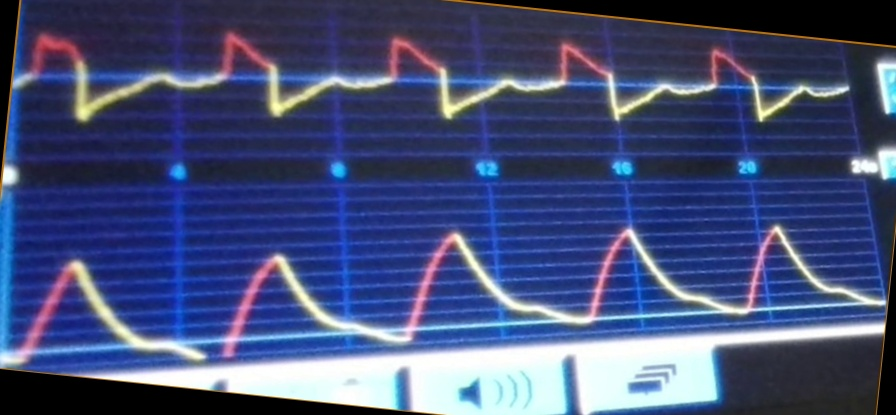Ineffective_effort Flow: (18, 27, 847, 142)
Ineffective_effort Volume: (10, 224, 881, 362)
